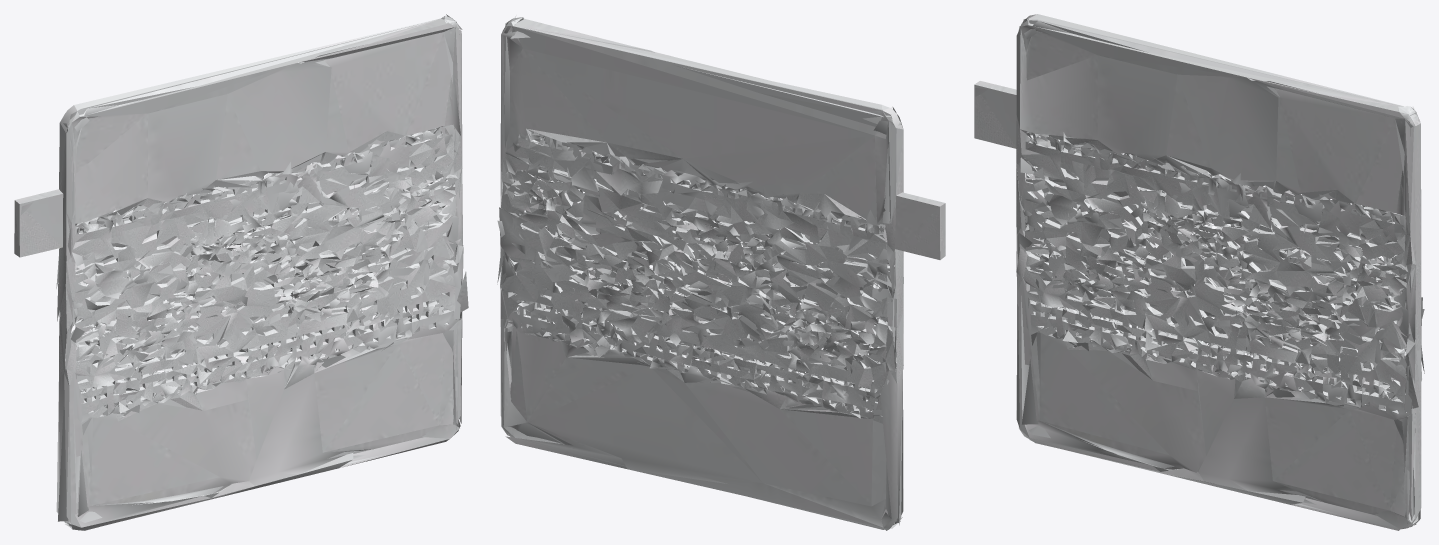
File: white-lace-tea-coaster.glb
The picture shows the model from 3 angles, left to right: view 1: azimuth 30°, elevation 25°; view 2: azimuth 150°, elevation 25°; view 3: azimuth 330°, elevation 25°; orthographic projection.
Parts seen in each view (by area): view 1: Mesh_0; view 2: Mesh_0; view 3: Mesh_0.
Part boxes in pixels (x1,y1,x2,y2): Mesh_0: (14,14,468,530); Mesh_0: (497,15,945,530); Mesh_0: (974,14,1424,530).
Size of the model in its own units: 1.92 by 1.74 by 0.1312.
1 material, 1 textured.
